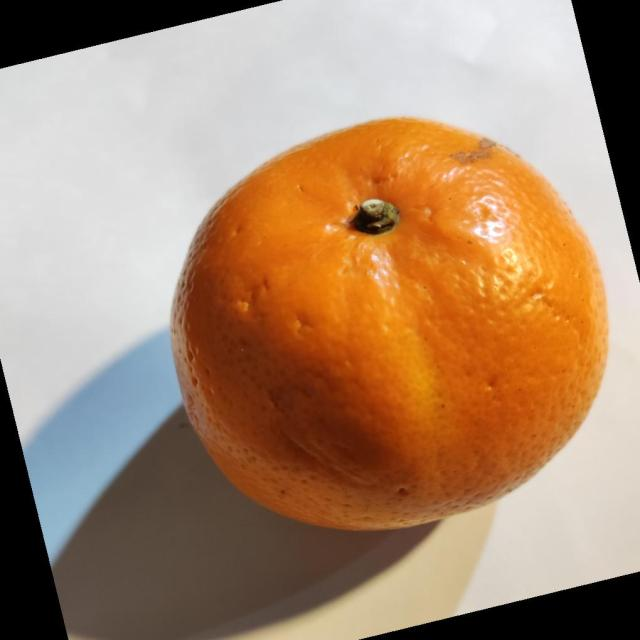fresh orange: (169, 115, 610, 533)
